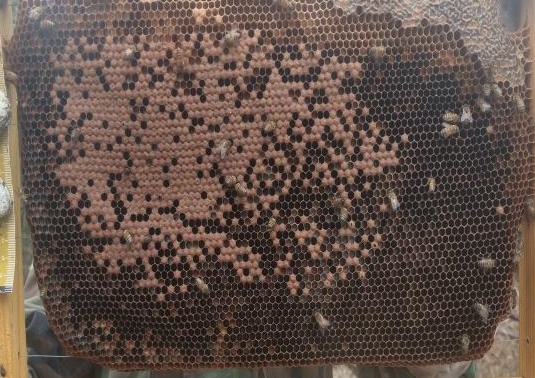cria: (47, 9, 416, 319)
